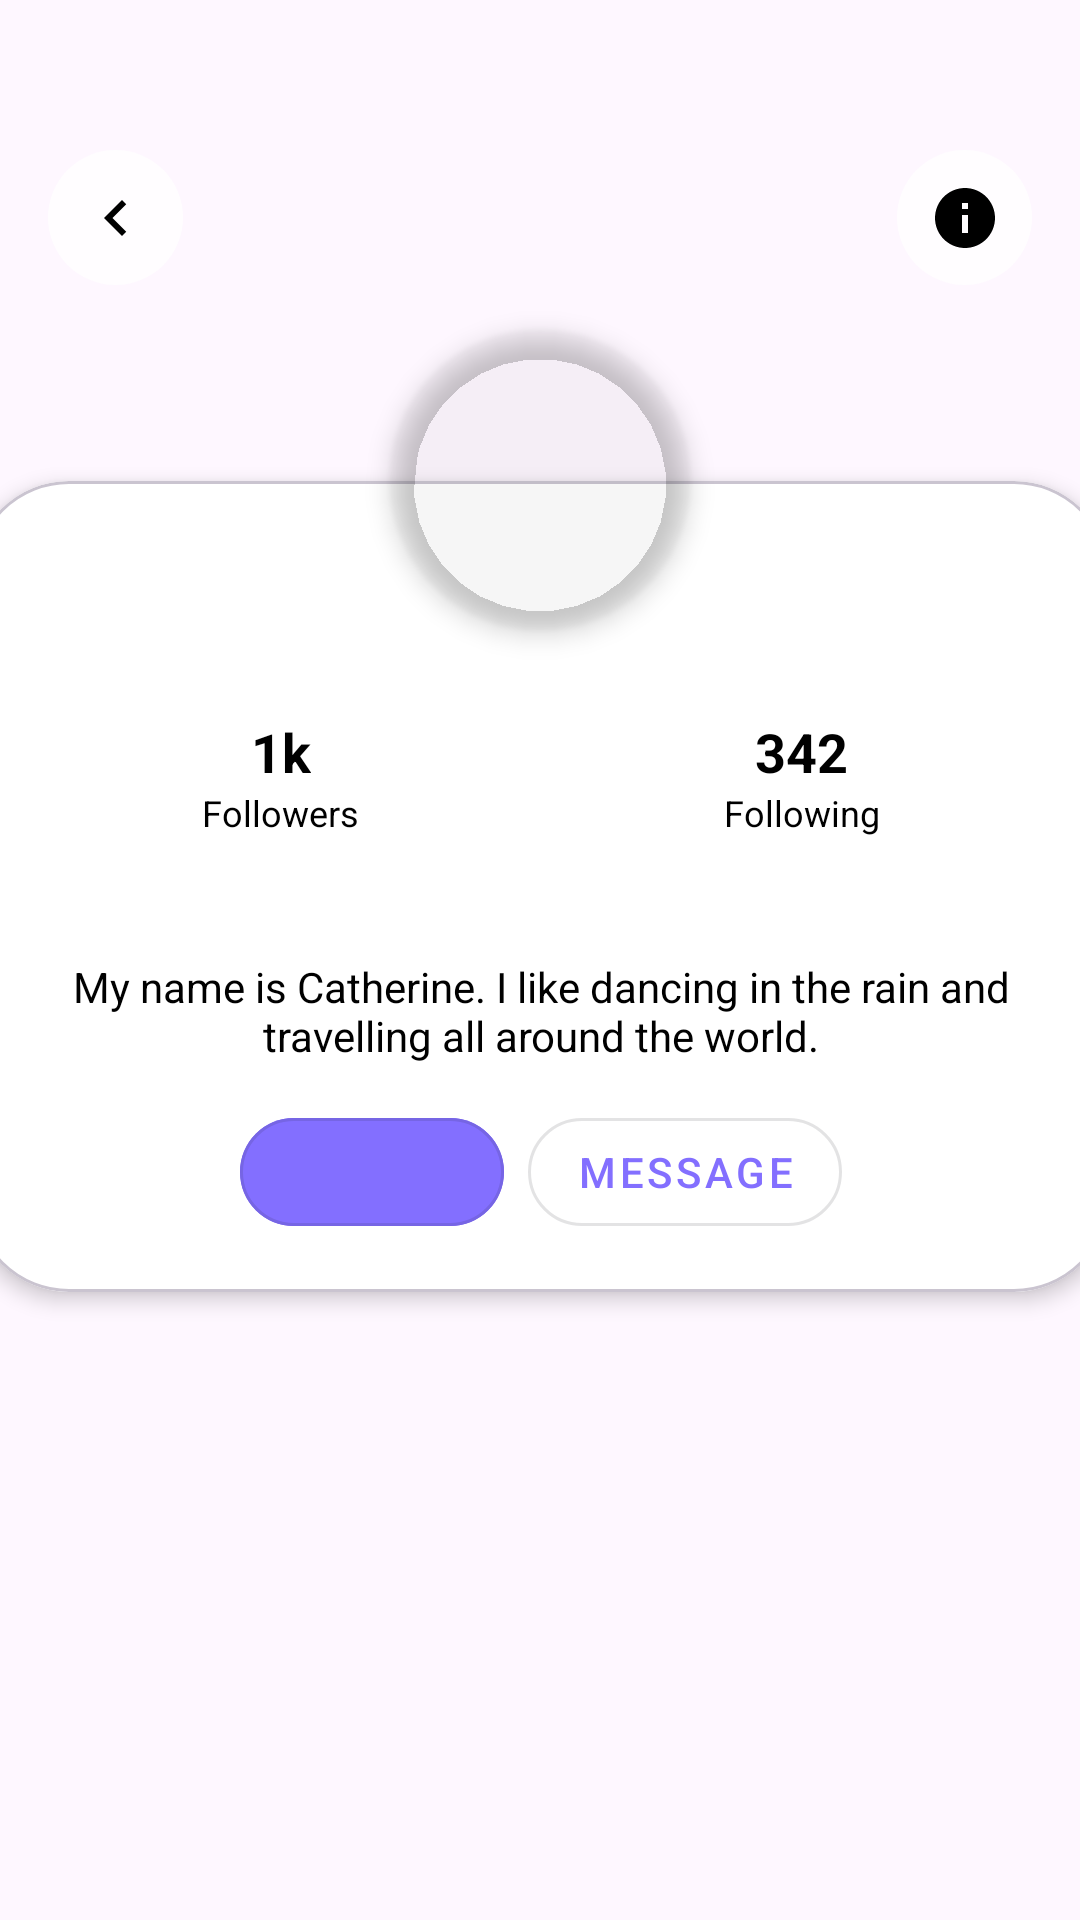

Named icons in this screenshot (1080*1920) and their bounding boxes, (x1, y1, x2, y2):
back: (104, 200, 126, 236)
info: (935, 188, 995, 248)
